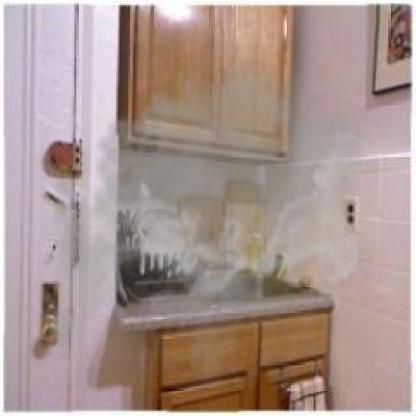Smoke: (28, 41, 371, 389)
